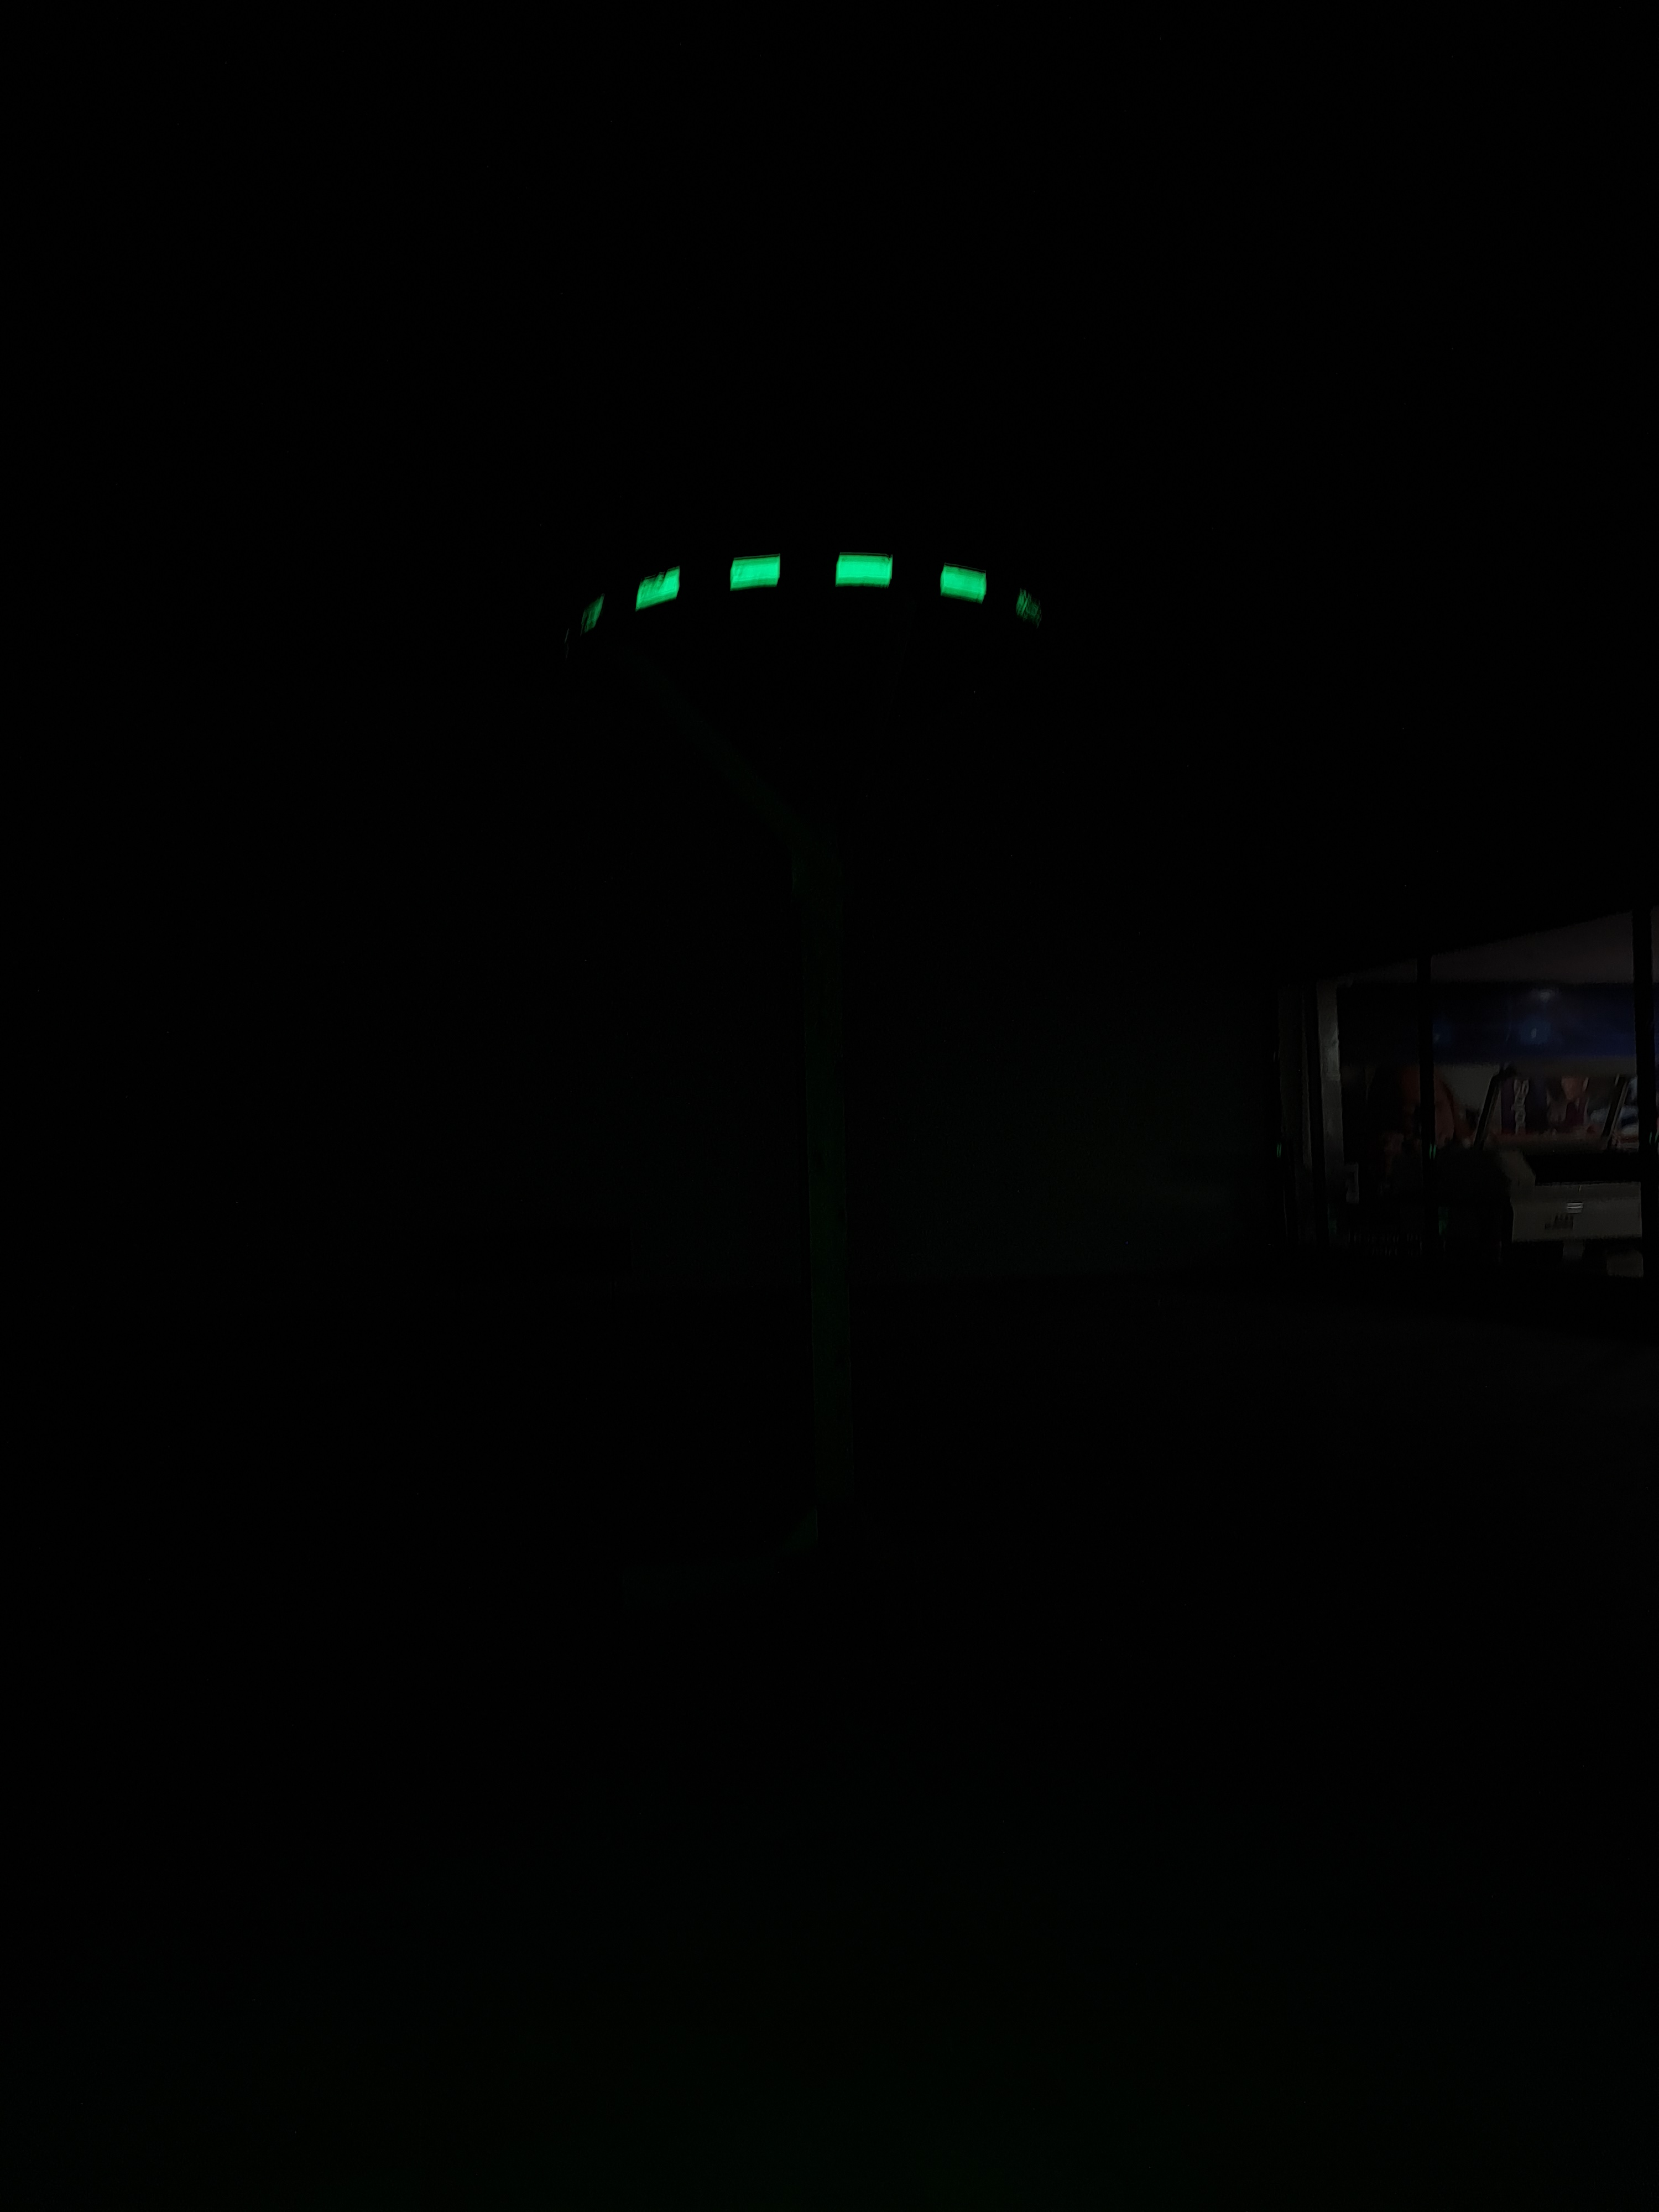hoop: (537, 554, 1060, 634)
